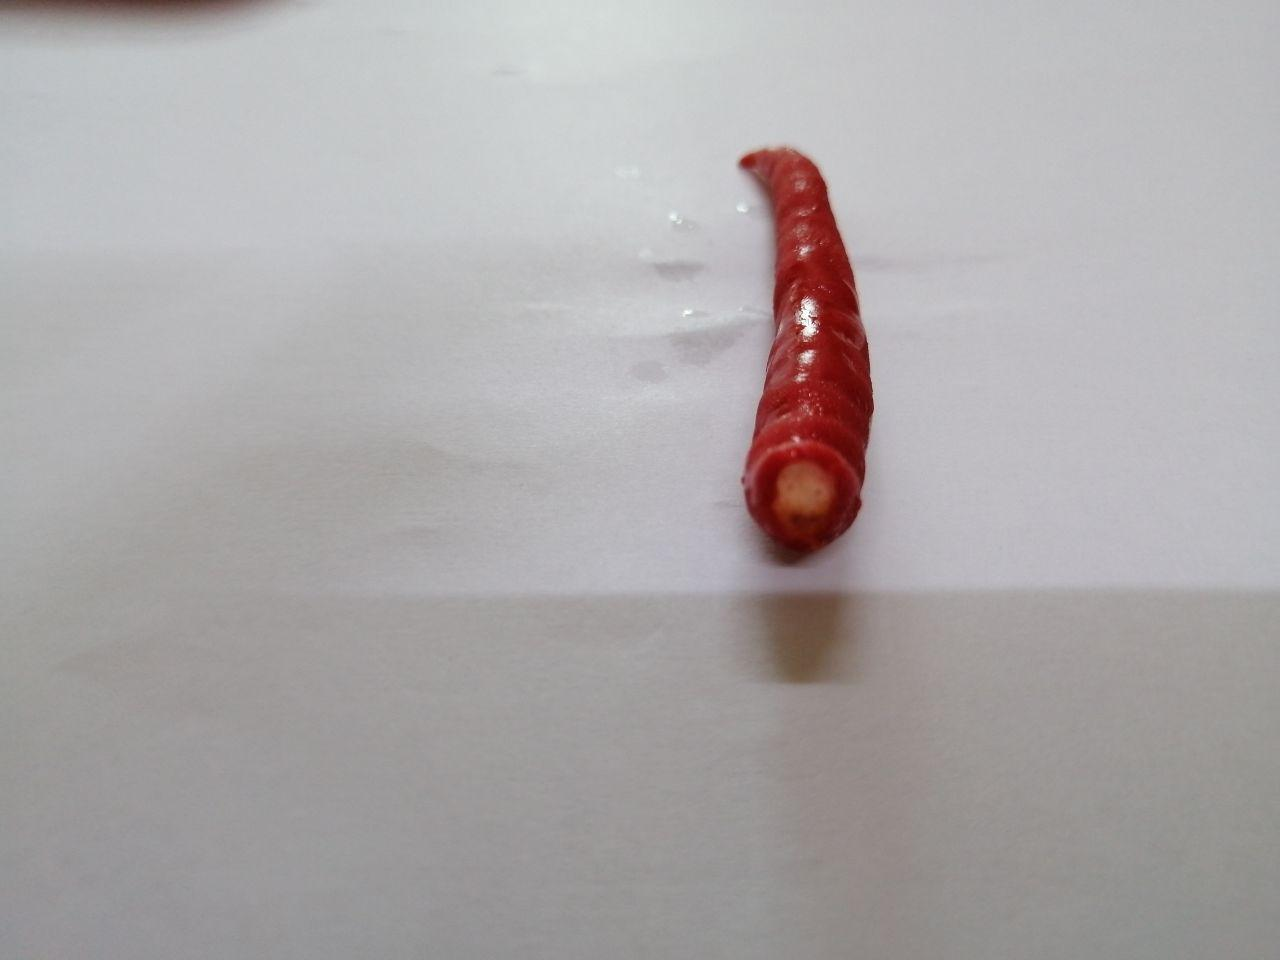lada merah: (708, 127, 890, 565)
